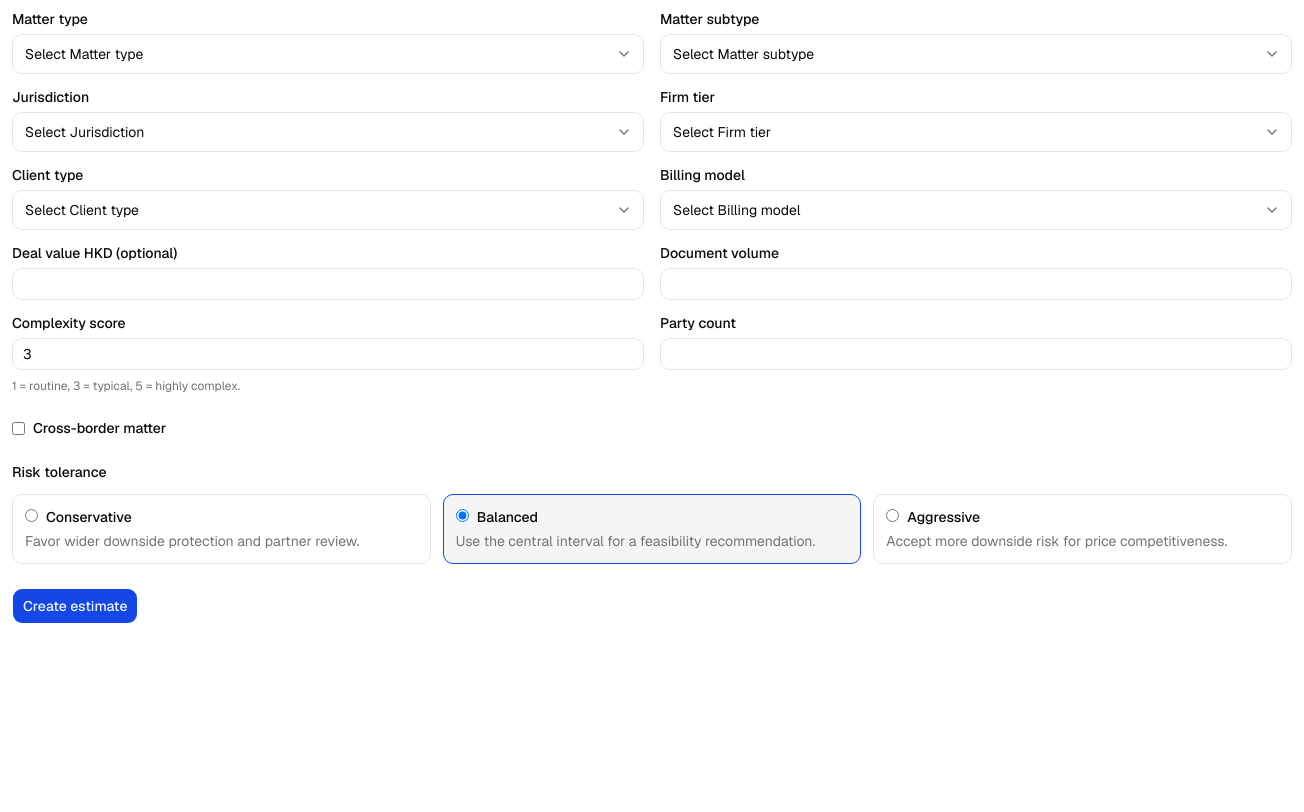
Test: matter intake workflow › auto-marks cross-border matters when a cross-border jurisdiction is selected
The image size is (1304, 812).
Select "Litigation" in the dropdown labelled "Matter type" at (328, 54), box [12,34,644,74]
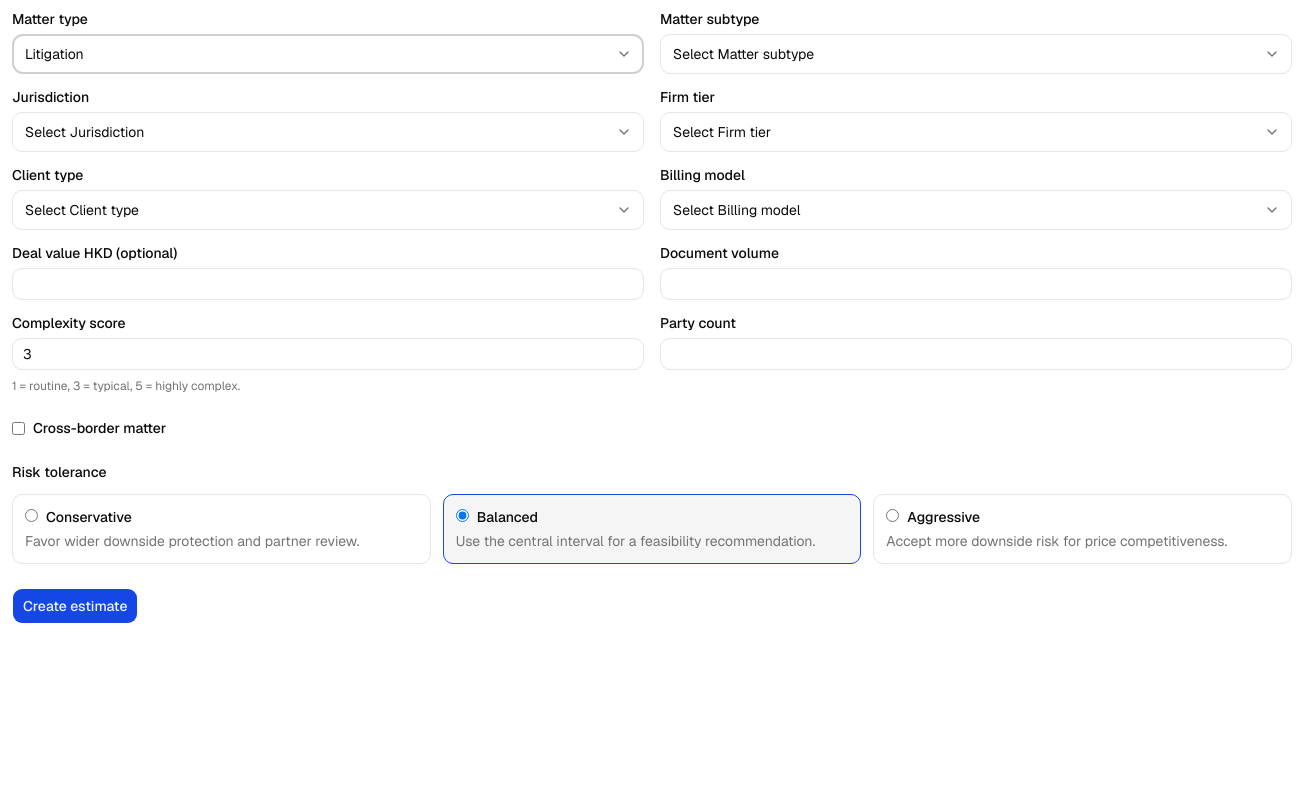
Select "Debt Recovery" in the dropdown labelled "Matter subtype" at (976, 54), box [660,34,1292,74]
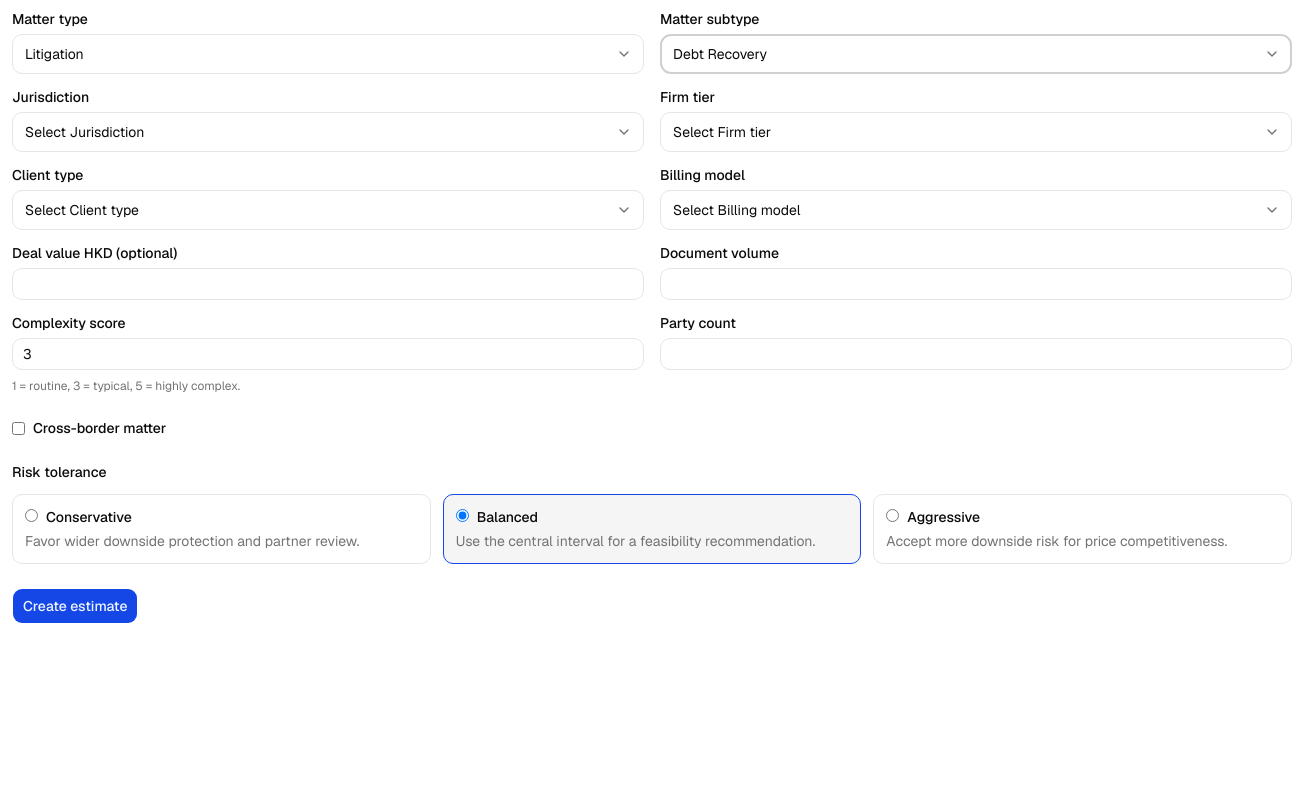
Select "GBA Cross-Border (HK-PRC)" in the dropdown labelled "Jurisdiction" at (328, 132), box [12,112,644,152]
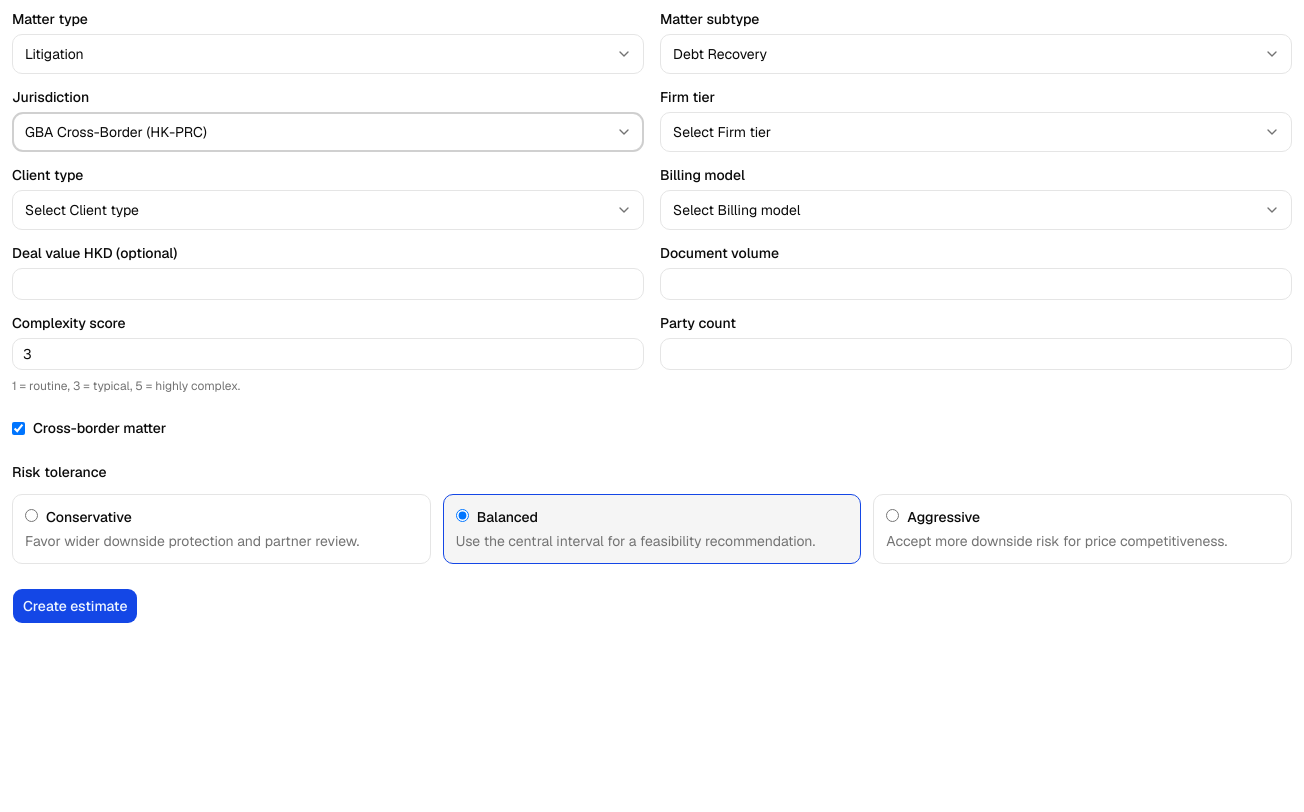
Check: the checkbox labelled "Cross-border matter" is checked, box [12,422,25,434]
